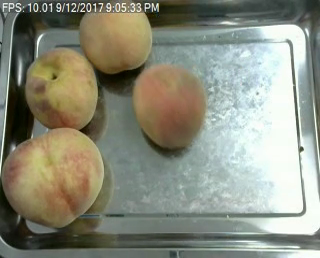Peach: (0, 126, 105, 229), (26, 47, 101, 130), (133, 63, 206, 148), (81, 0, 153, 72)
